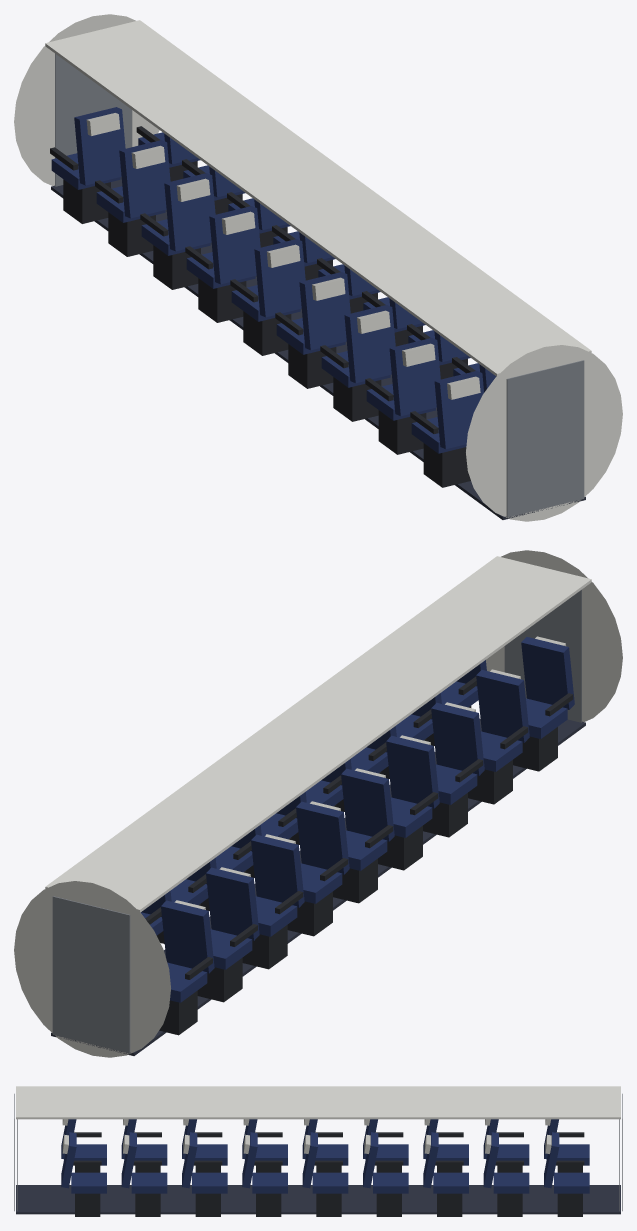
The model's file is lat_twinprop_low_cabin.dae.
3 renders of one model, top to bottom at view 1: azimuth 30°, elevation 25°; view 2: azimuth 150°, elevation 25°; view 3: azimuth 270°, elevation 25°, orthographic. The views are drawn at different scales.
Visible parts, largest first — view 1: lat_twinprop_low_cabin64; view 2: lat_twinprop_low_cabin64; view 3: lat_twinprop_low_cabin64.
Boxes of the visible parts, left/top/right/bottom form: lat_twinprop_low_cabin64: left=14, top=14, right=622, bottom=521; lat_twinprop_low_cabin64: left=14, top=550, right=622, bottom=1057; lat_twinprop_low_cabin64: left=14, top=1086, right=622, bottom=1216.
Size of the model in its own units: 1.63 by 8.18 by 1.71.
